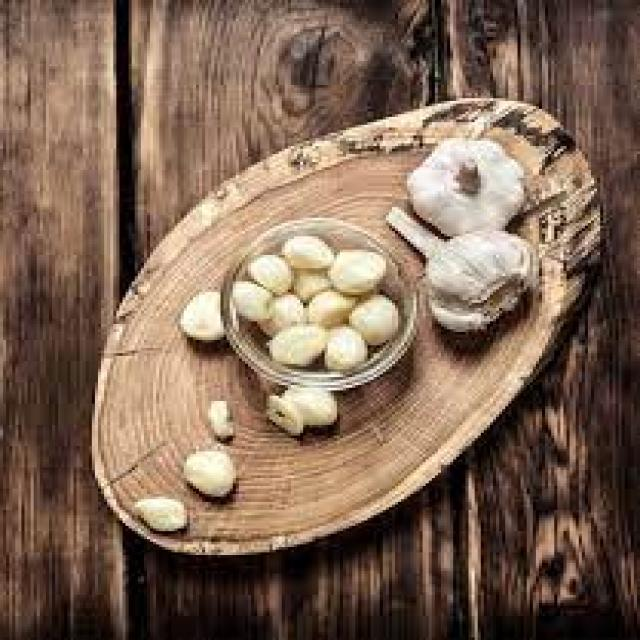garlic: (251, 255, 383, 350)
